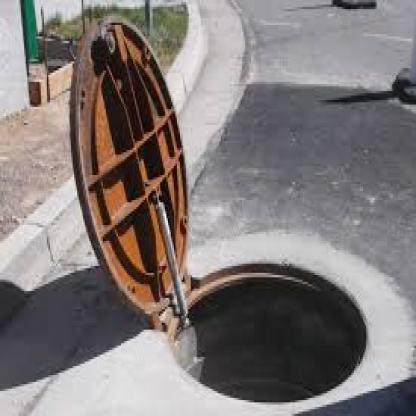open manhole-not overflowing-: (57, 3, 386, 416)
